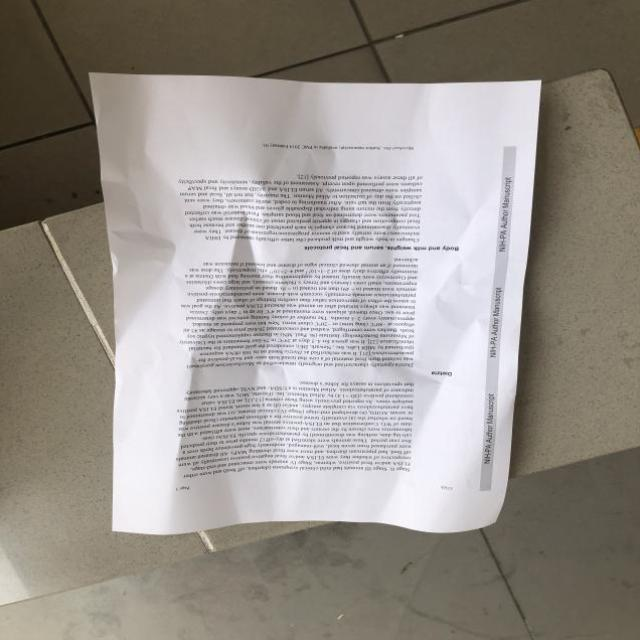kertas: (83, 73, 541, 541)
